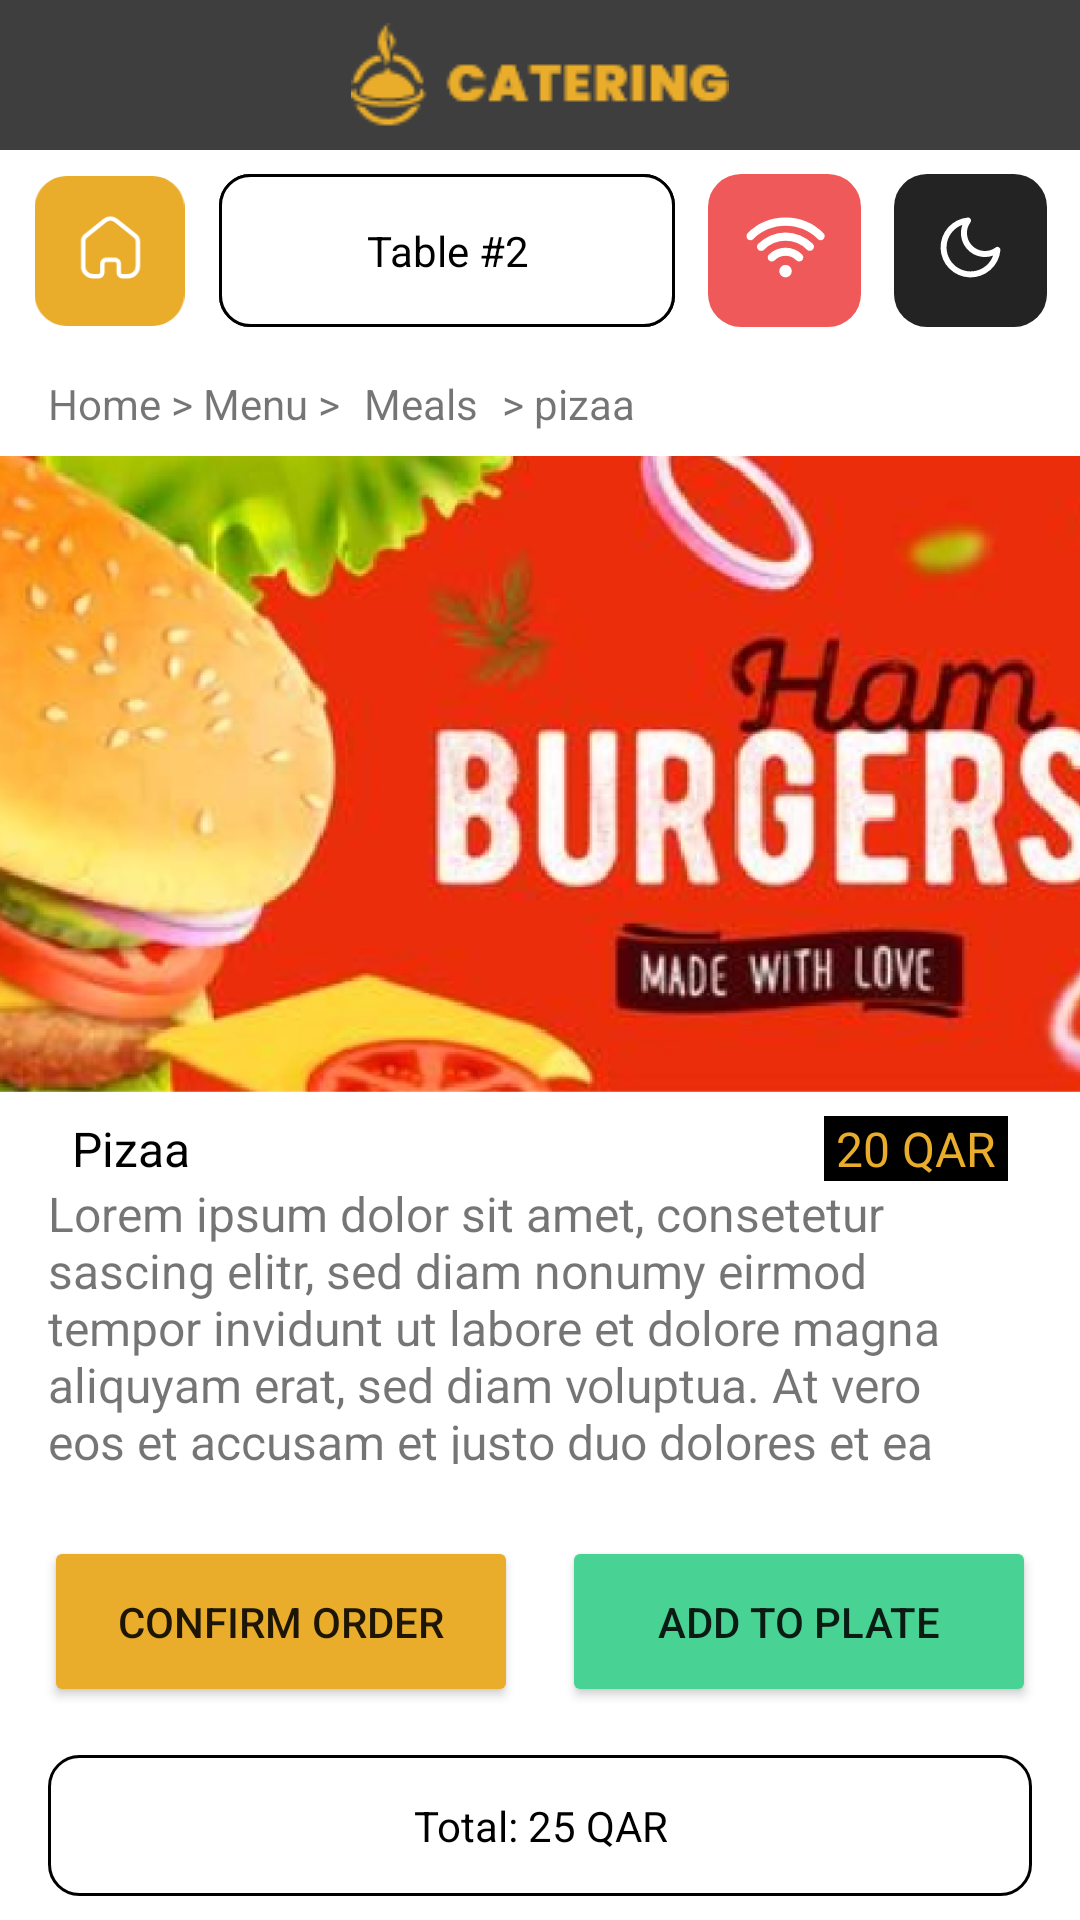

Where to tap for icons on this 1080px x 1920px app screen, as (x=x, y=y):
homw: (x=110, y=251)
wifi: (x=784, y=250)
